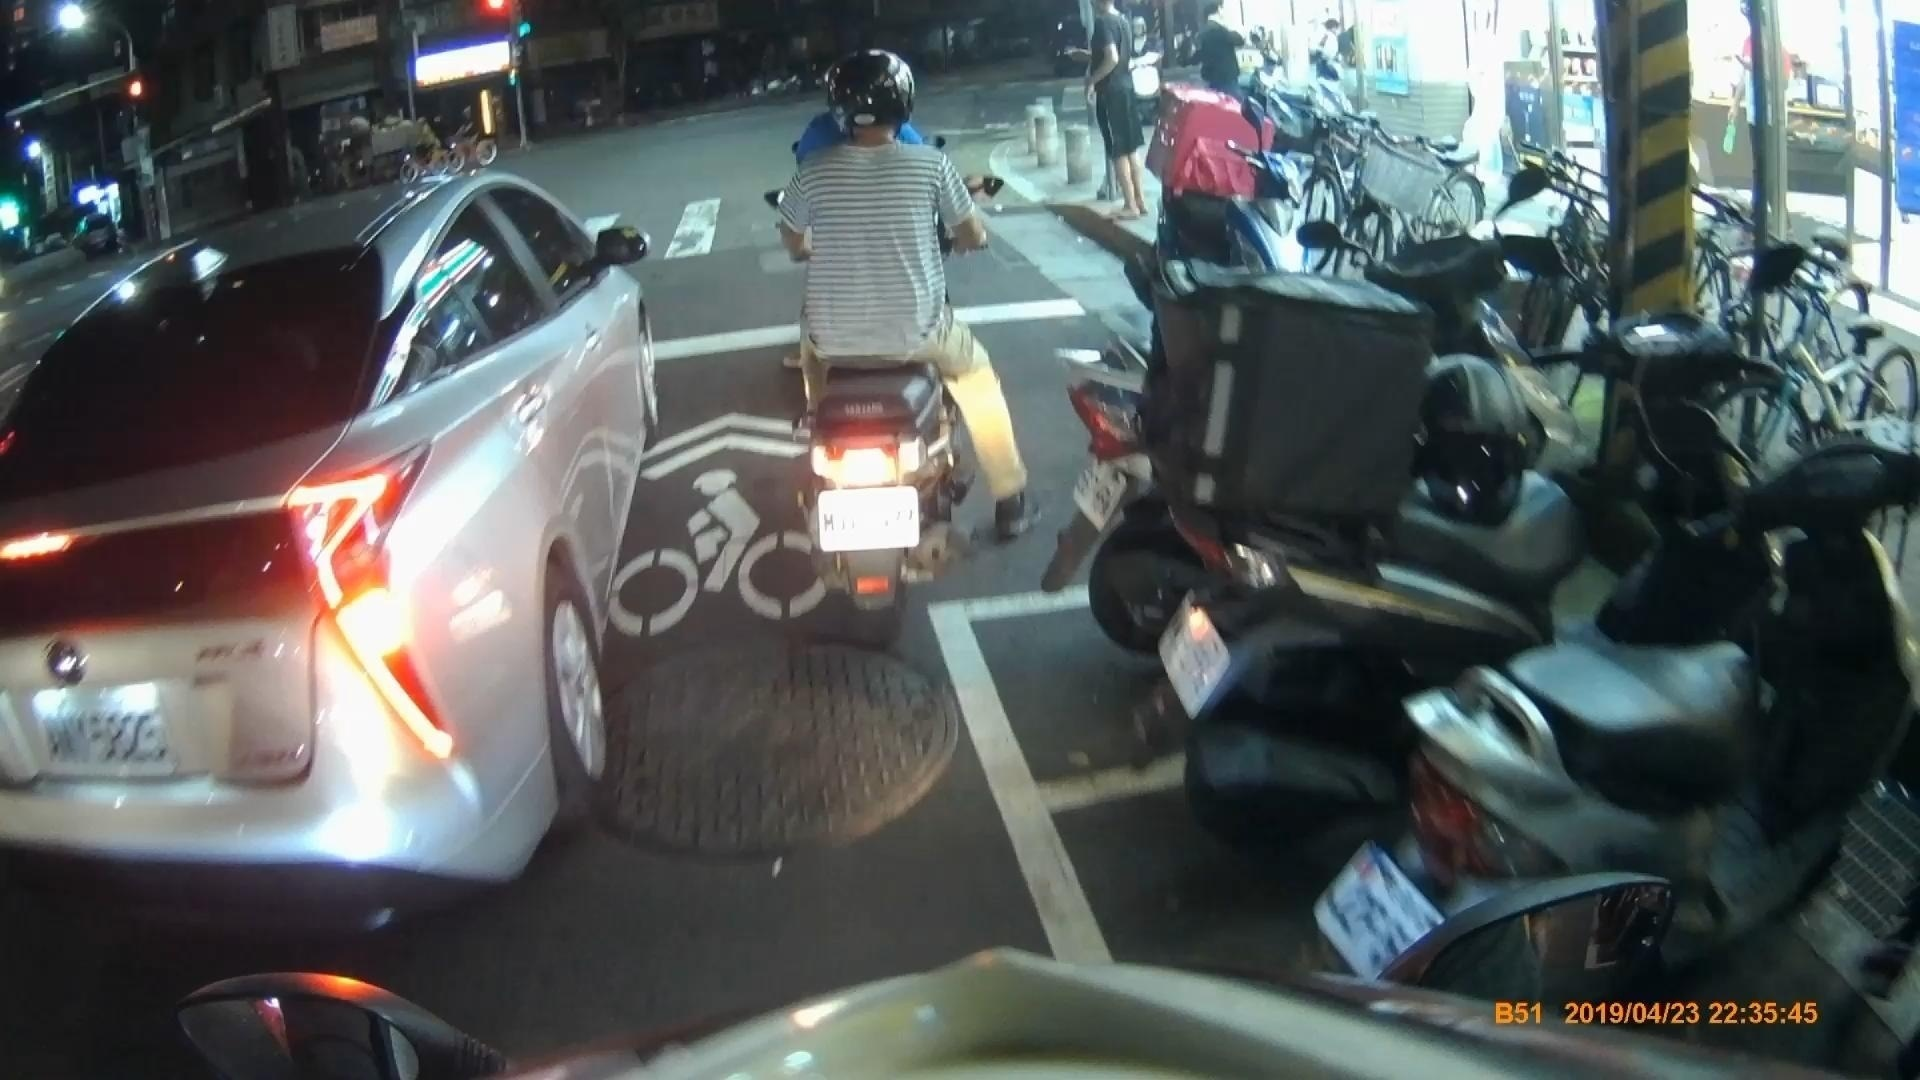License_plate: (1312, 837, 1438, 972), (32, 683, 181, 776), (1154, 592, 1229, 721), (820, 488, 920, 551), (1062, 450, 1132, 527)
